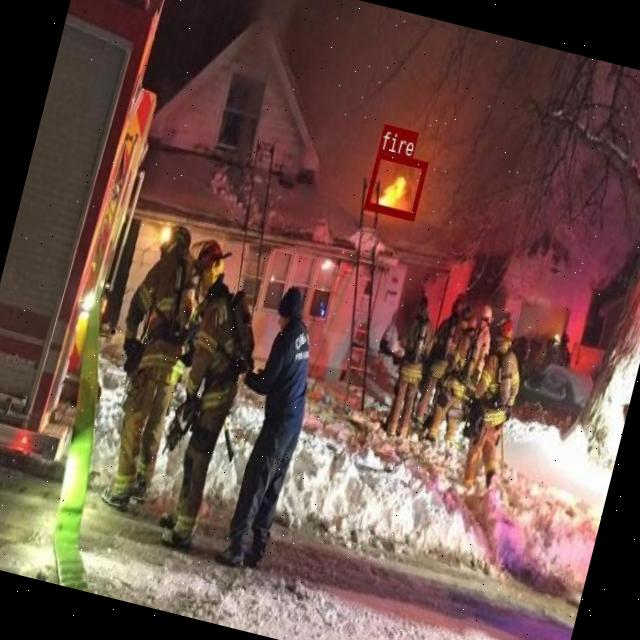fire: (364, 148, 428, 219)
